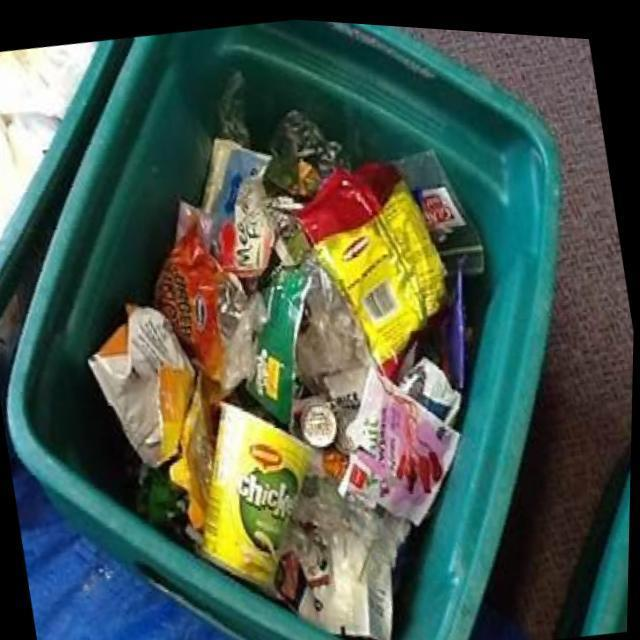Garbage: (91, 68, 484, 640)
Plastic: (302, 397, 339, 443)
Plastic_Bag: (395, 142, 486, 269), (297, 260, 373, 379), (447, 259, 467, 382)
Plastic_Container: (205, 399, 314, 587)
Plastic_wraper: (297, 156, 446, 367), (287, 471, 412, 640), (341, 362, 461, 518), (91, 304, 196, 464), (156, 224, 256, 390), (247, 260, 313, 418), (202, 135, 276, 273), (265, 105, 349, 195)
